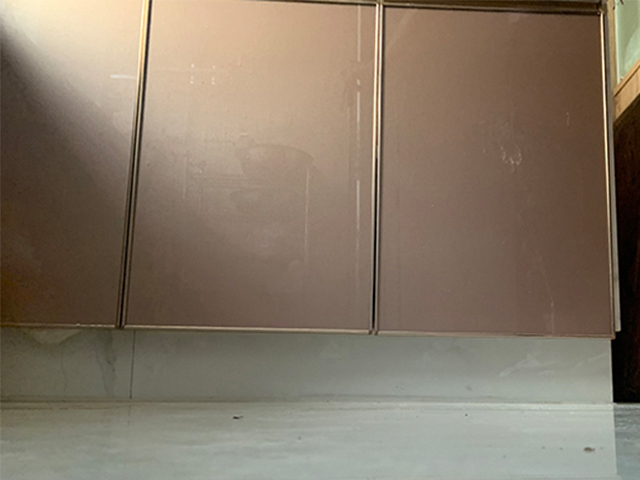cabinet: (1, 1, 621, 404)
